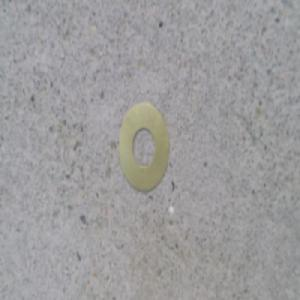Washer: (119, 105, 171, 196)
